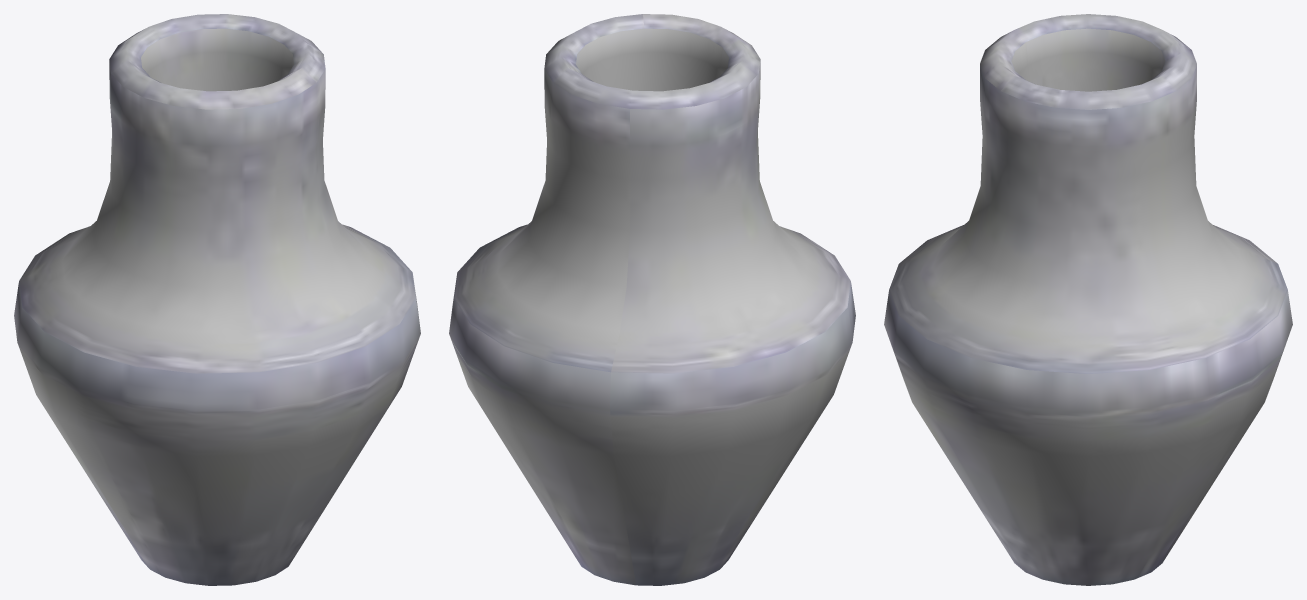
The model's file is prop-qp-vase-4.glb.
3 renders of one model, left to right at view 1: azimuth 30°, elevation 25°; view 2: azimuth 150°, elevation 25°; view 3: azimuth 270°, elevation 25°, orthographic.
Parts seen in each view (by area): view 1: Cylinder_055; view 2: Cylinder_055; view 3: Cylinder_055.
Boxes of the visible parts, x1,y1,x2,y2 form: Cylinder_055: (14,14,420,585); Cylinder_055: (449,14,855,585); Cylinder_055: (884,14,1292,585).
Size of the model in its own units: 0.3596 by 0.4855 by 0.3596.
Materials: 1 (1 with a texture image).
